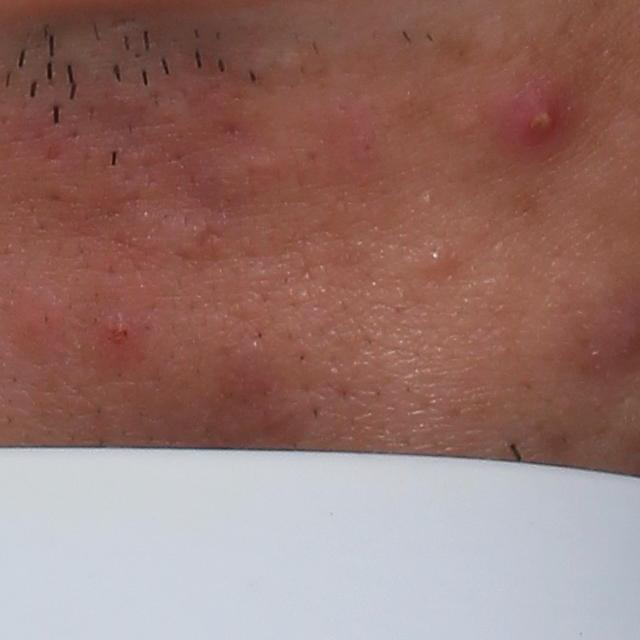comedo: (425, 247, 452, 274)
hypertrophic_scar: (108, 200, 234, 267), (191, 149, 298, 208)
papule: (95, 302, 144, 361)
pustule: (503, 83, 578, 159)
